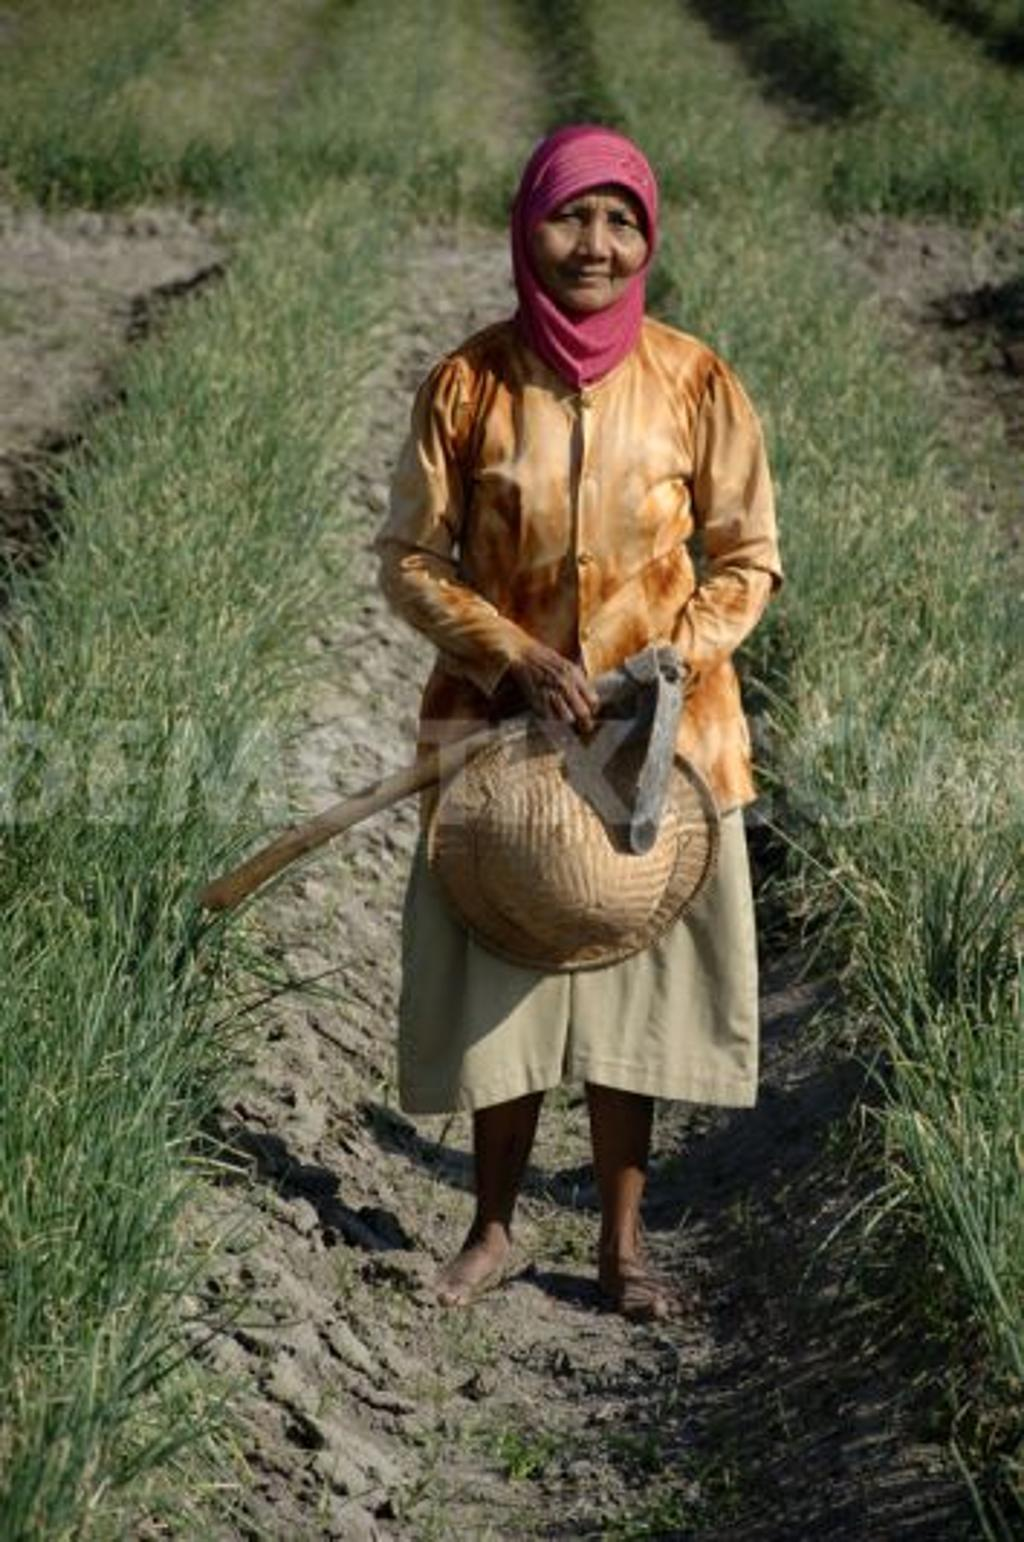face: (539, 154, 638, 308)
